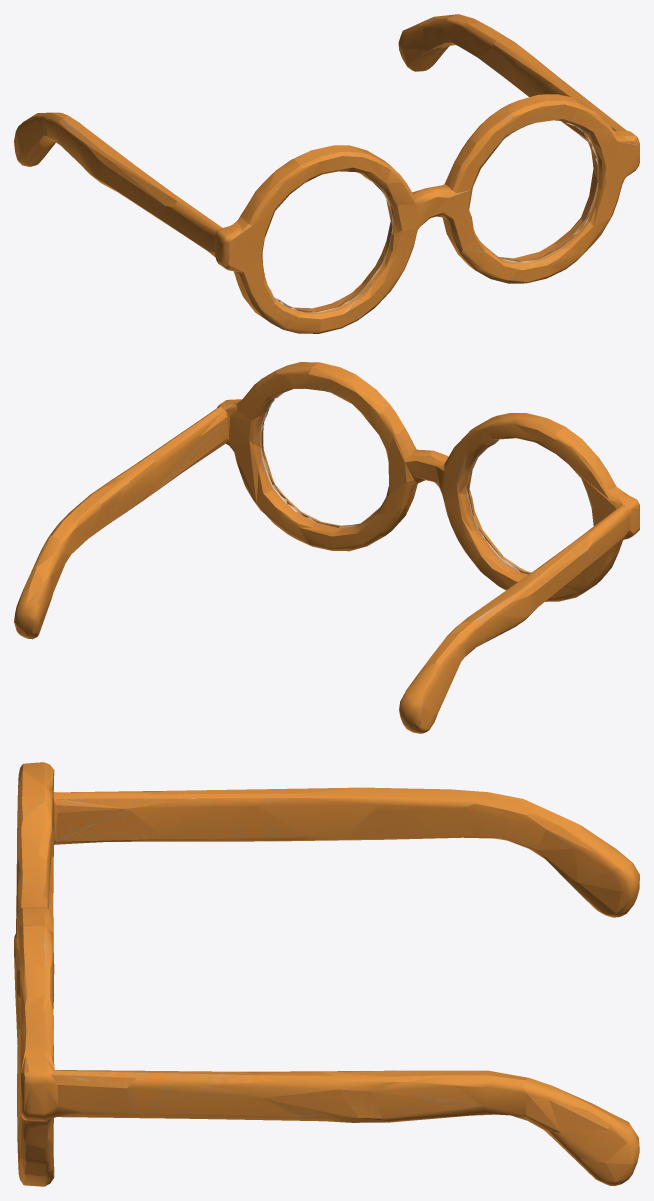
The model's file is glasses_round.fbx.
3 renders of one model, top to bottom at view 1: azimuth 30°, elevation 25°; view 2: azimuth 150°, elevation 25°; view 3: azimuth 270°, elevation 25°, orthographic. The views are drawn at different scales.
Visible parts, largest first — view 1: Mesh_0; view 2: Mesh_0; view 3: Mesh_0.
Part boxes in pixels (x1=…): Mesh_0: x1=14, y1=14, x2=639, y2=333; Mesh_0: x1=14, y1=362, x2=639, y2=733; Mesh_0: x1=14, y1=762, x2=639, y2=1186.
Size of the model in its own units: 1.9 by 0.7545 by 1.69.
Materials: 1 (1 with a texture image).
